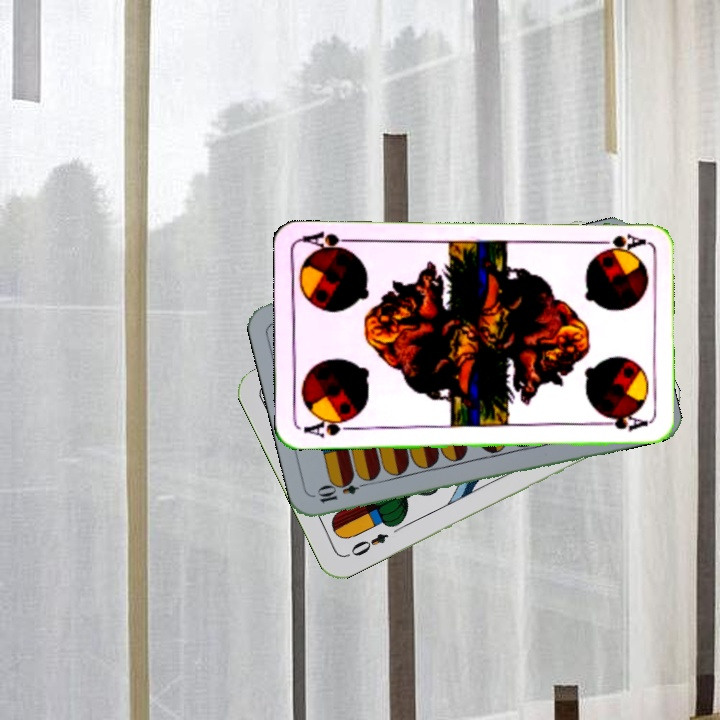E10: (313, 476, 372, 506)
EO: (346, 529, 391, 559)
SA: (299, 414, 359, 441), (589, 229, 648, 254)
